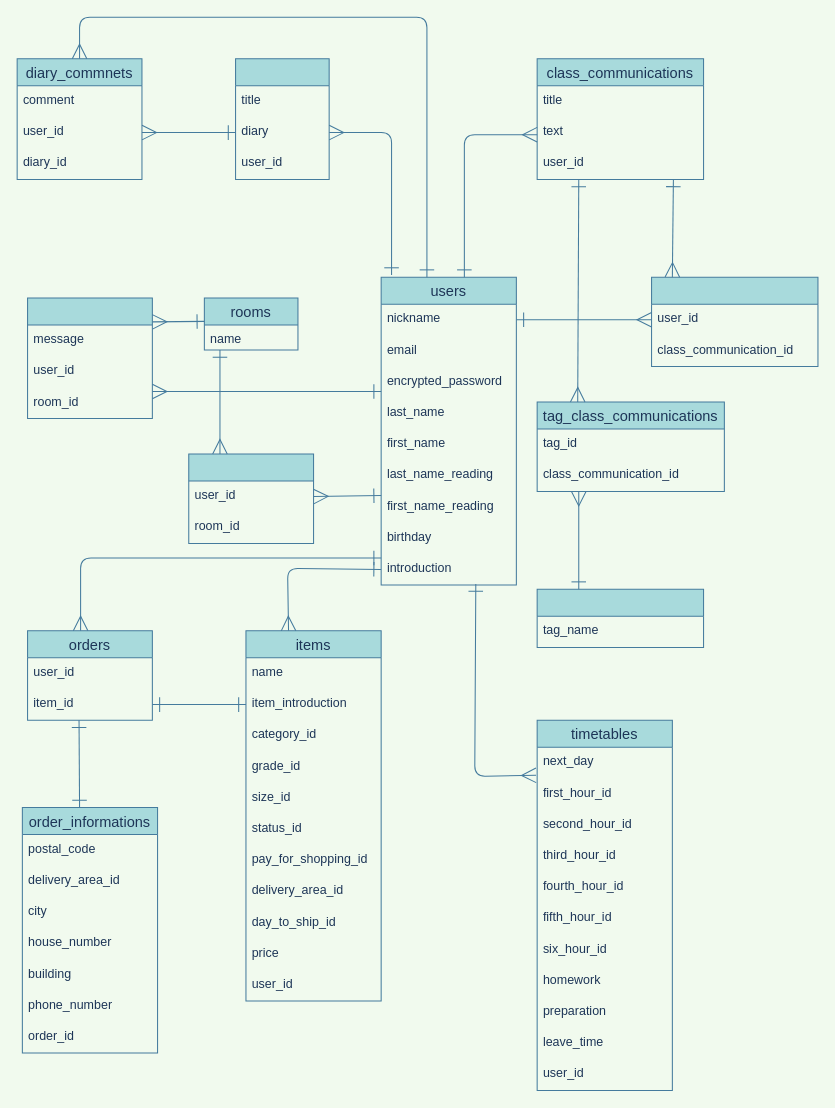
Image size: 835x1108. Some labels were removed from this diagram. Each missing label, with the box of its shape:
chat_messages: (27, 297, 152, 419)
diaries: (235, 58, 329, 179)
likes: (651, 276, 818, 367)
room_users: (188, 453, 314, 543)
tags: (536, 588, 704, 647)
